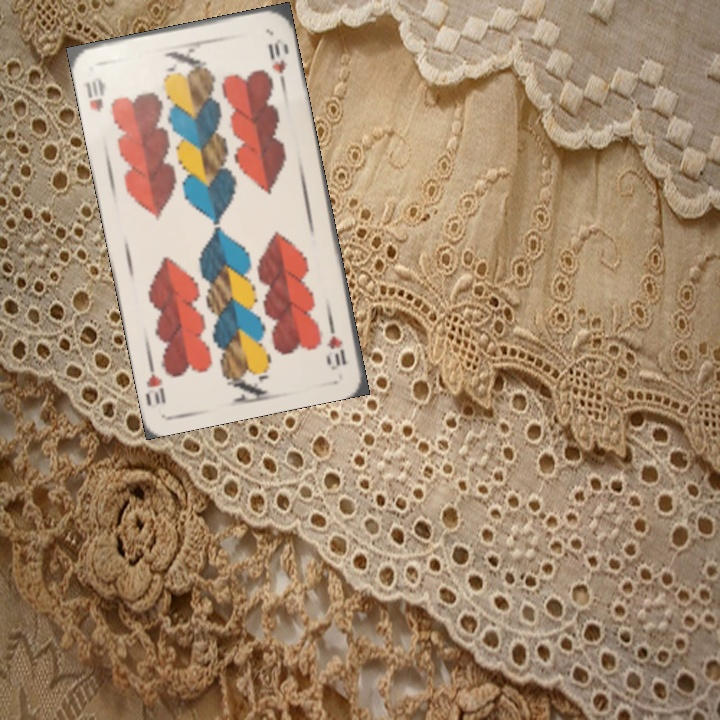H10: (323, 314, 349, 372), (80, 72, 108, 115)
